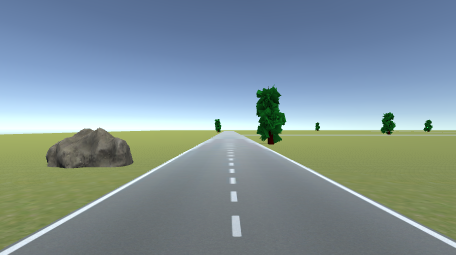rock: (45, 127, 134, 167)
tree: (256, 86, 286, 147), (381, 112, 396, 136), (423, 119, 433, 134), (214, 118, 222, 135), (314, 121, 320, 133)
